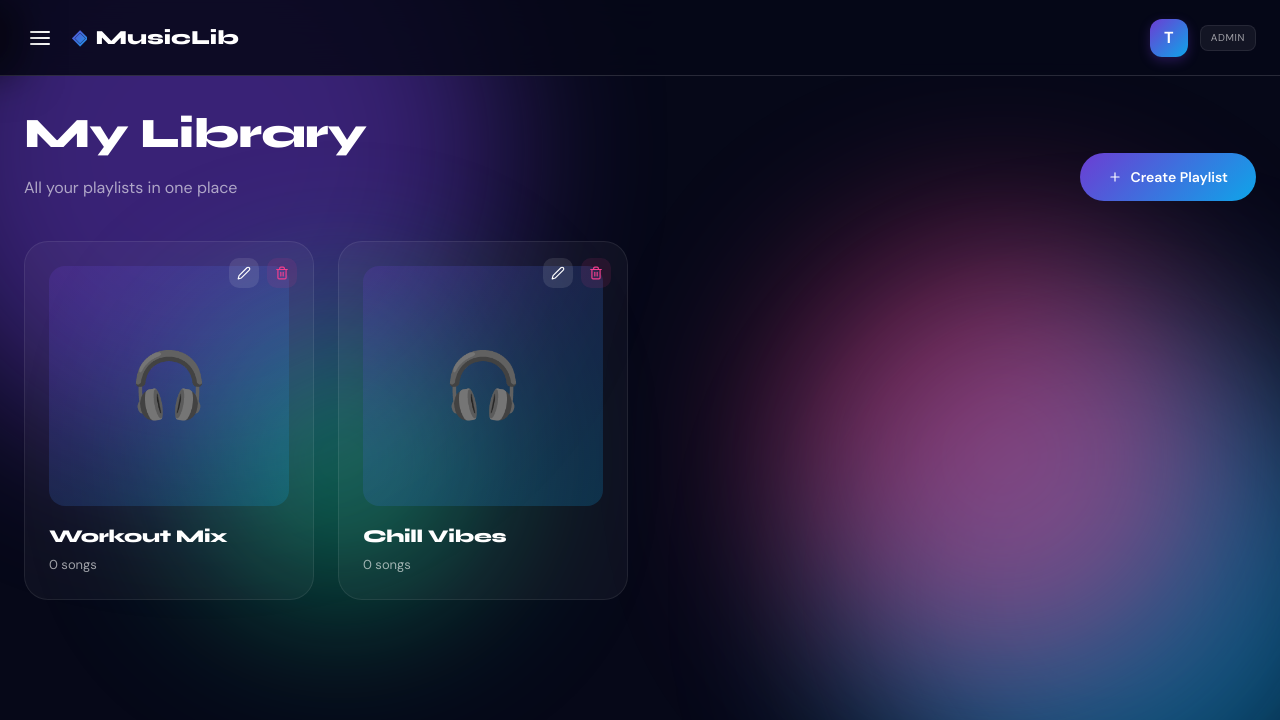
Test case: Playlists Page › allows a user to create a new playlist
// Click 'Create Playlist' button
Step 1. Click the button "Create Playlist" → click(1168, 177), box [1080, 153, 1256, 201]
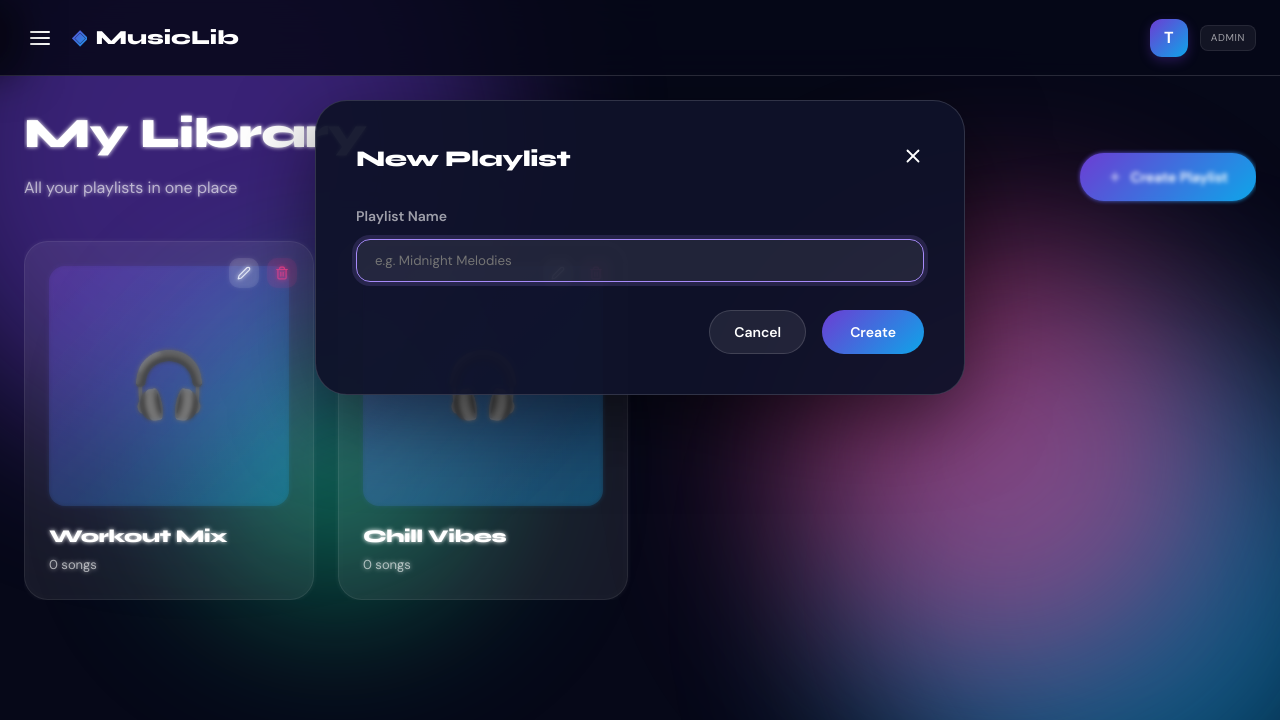
// Fill in the form
Step 2. Type "Study Focus" into the field with placeholder "e.g. Midnight Melodies" → (640, 261), box [356, 239, 924, 282]
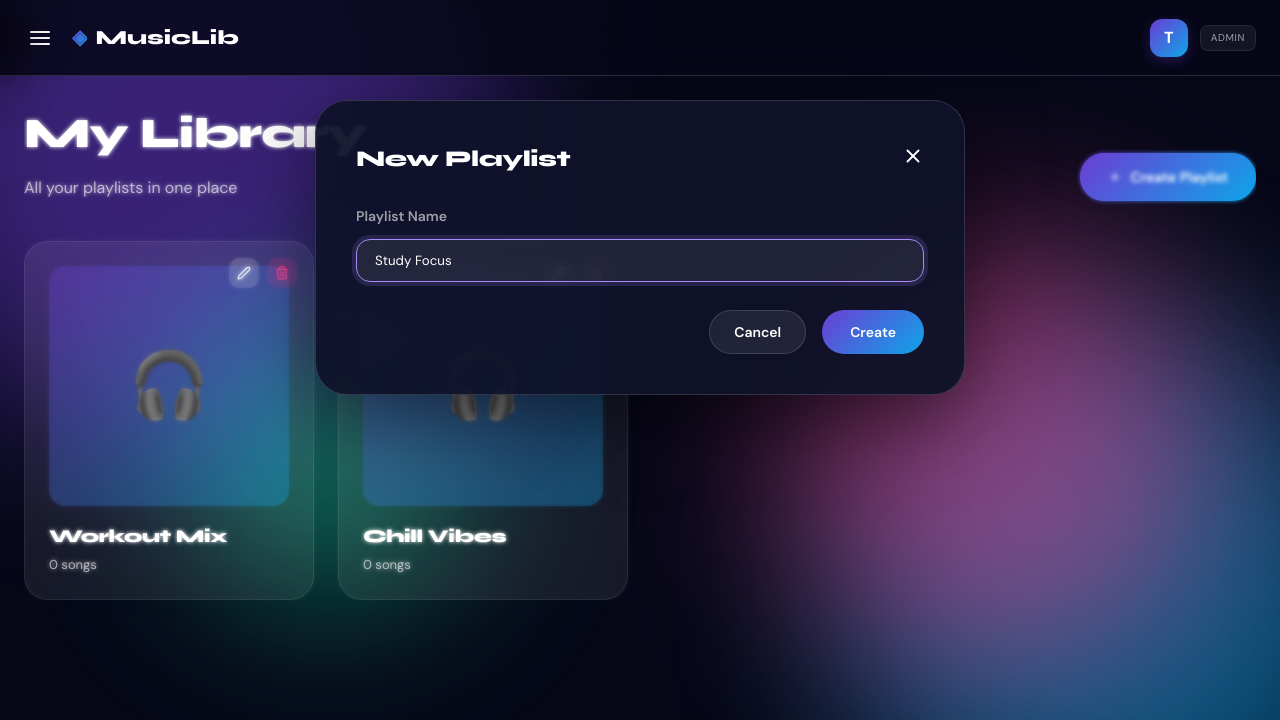
Step 3. Click the submit button → click(873, 332), box [822, 310, 924, 354]
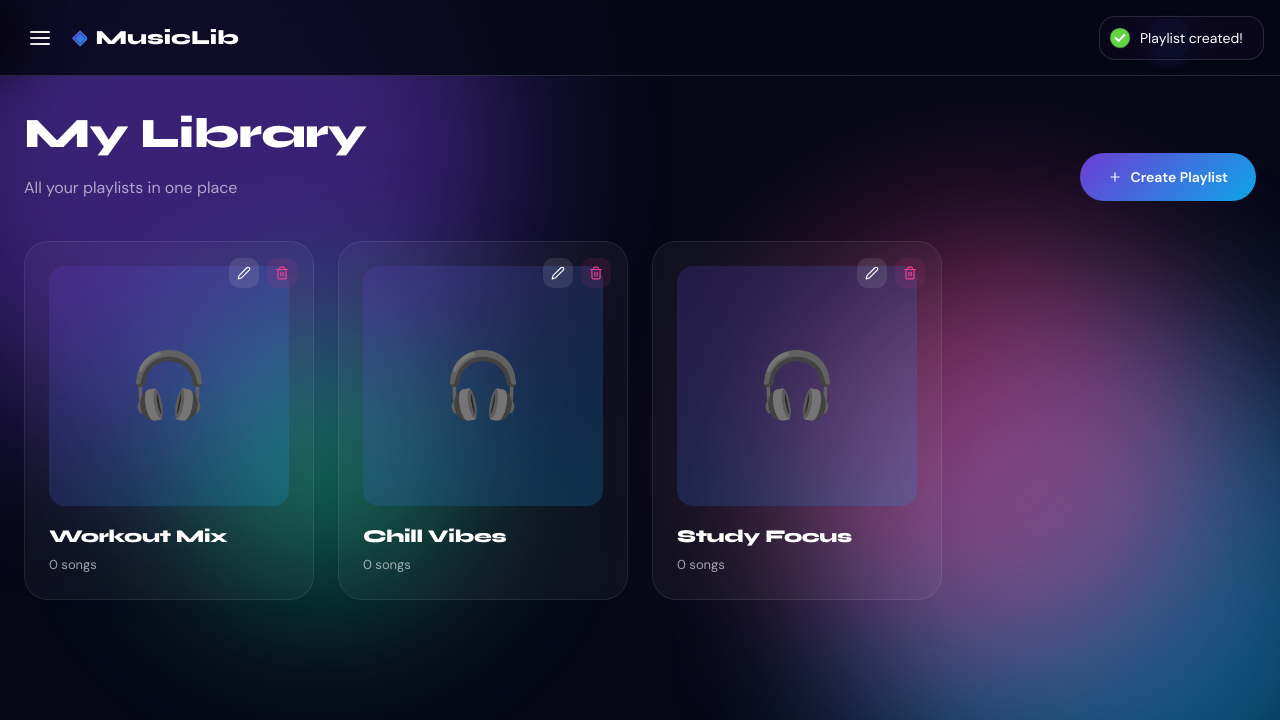
Check: the link "🎧 Study Focus 0 songs" is shown, box [652, 241, 942, 600]
